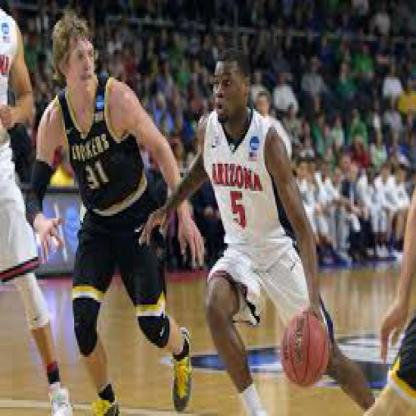basketball: (280, 312, 328, 386)
